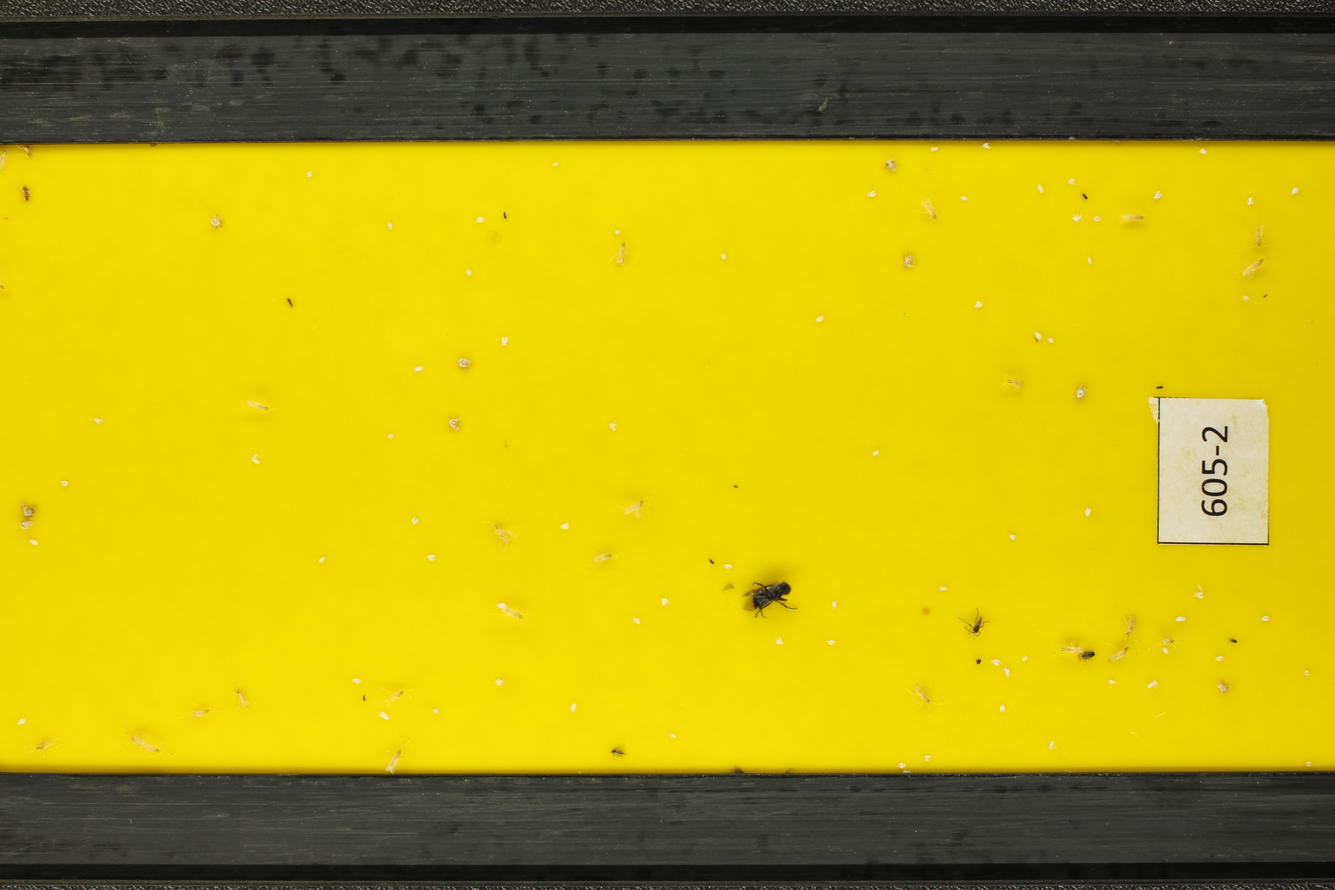MR: (117, 728, 176, 765), (612, 490, 667, 527), (902, 675, 946, 719), (178, 696, 226, 733), (481, 513, 518, 553), (582, 539, 624, 574), (1228, 255, 1274, 286), (20, 734, 68, 763), (606, 235, 636, 281), (236, 391, 278, 421), (915, 192, 948, 230), (382, 678, 416, 711), (1115, 605, 1143, 645), (382, 735, 413, 771), (1116, 207, 1157, 234), (229, 680, 258, 718), (1100, 642, 1142, 668), (1242, 218, 1271, 255), (497, 607, 538, 628), (997, 373, 1030, 396), (1051, 635, 1081, 655), (16, 144, 42, 167), (1150, 632, 1185, 647), (0, 146, 11, 174)
TR: (1, 213, 11, 222)
WF: (1142, 675, 1164, 694), (971, 298, 987, 312), (15, 715, 31, 729), (349, 672, 363, 688), (829, 596, 842, 613), (1191, 588, 1206, 602), (1071, 210, 1084, 226), (1290, 183, 1303, 199), (93, 415, 106, 430), (866, 187, 879, 202), (717, 249, 730, 263), (1243, 195, 1257, 208), (1152, 188, 1165, 202), (425, 551, 438, 565), (409, 513, 422, 527), (376, 711, 391, 723), (57, 477, 72, 489), (996, 703, 1011, 715), (608, 420, 619, 436), (816, 310, 826, 327), (475, 213, 488, 226), (658, 596, 671, 609), (559, 520, 572, 533), (28, 537, 42, 549), (386, 219, 396, 235), (568, 700, 578, 716), (494, 601, 510, 611), (929, 144, 941, 157), (630, 614, 643, 626), (773, 635, 786, 647), (989, 656, 1002, 668), (1199, 144, 1210, 158), (1173, 614, 1188, 624), (250, 453, 262, 465), (1065, 176, 1077, 188), (978, 144, 994, 153), (825, 637, 837, 649), (305, 169, 316, 182), (498, 336, 509, 349), (1092, 213, 1103, 226), (1035, 183, 1046, 196), (316, 554, 329, 565), (431, 706, 441, 720), (1083, 505, 1093, 519), (386, 431, 397, 443), (870, 447, 882, 458), (958, 192, 970, 203), (666, 730, 677, 742), (1213, 651, 1225, 662), (936, 584, 949, 594), (1002, 665, 1012, 678), (1085, 254, 1094, 268), (1239, 293, 1250, 304), (723, 561, 734, 572), (1260, 614, 1271, 625), (494, 677, 504, 689), (414, 364, 424, 375), (550, 159, 561, 169), (1047, 336, 1057, 347), (1033, 329, 1044, 339), (1007, 532, 1018, 542), (1107, 677, 1118, 687), (1304, 758, 1314, 769), (896, 760, 908, 769), (1048, 738, 1056, 751), (613, 227, 623, 237), (1020, 654, 1030, 664), (1160, 648, 1171, 657), (464, 268, 473, 278), (921, 753, 931, 762), (1302, 668, 1311, 677)
